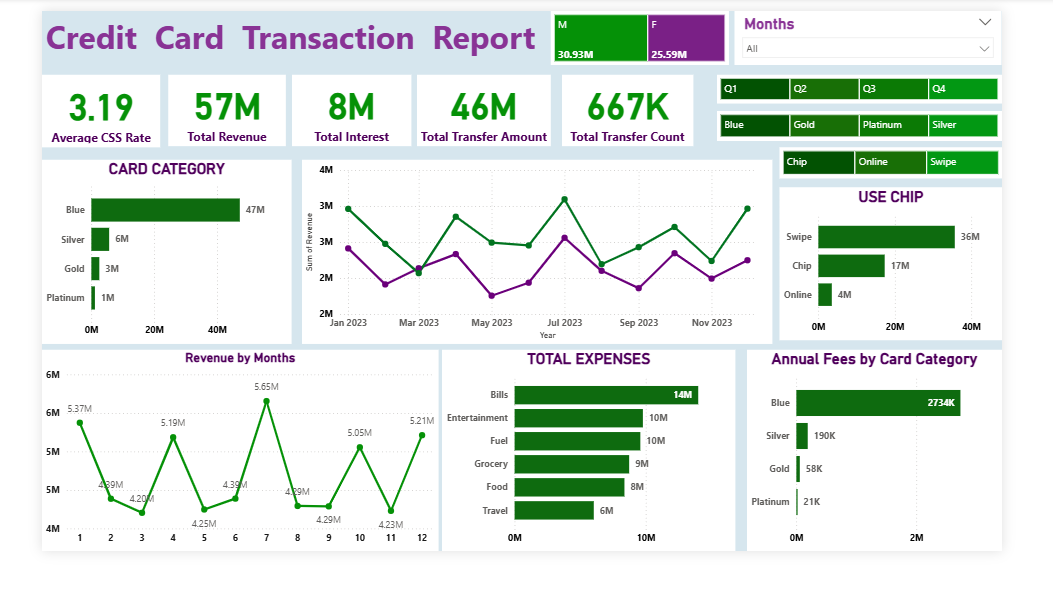

The dashboard page shown, as its layout file describes it:
{"tool":"powerbi","page":{"name":"Page 2","canvas":[1280,720],"ordinal":1},"visuals":[{"type":"textbox","box":[0,0,693.5,72.4],"z":0},{"type":"card","fields":{"Values":["Avg(customer.Cust_Satisfaction_Score)"]},"box":[0,84.4,158,96.5],"z":1000},{"type":"slicer","fields":{"Values":["credit_card.Month Name"]},"box":[924.1,0,355.7,72.1],"z":2000},{"type":"card","fields":{"Values":["Sum(credit_card.Revenue)"]},"box":[167.6,85.6,156.8,95.3],"z":3000},{"type":"card","fields":{"Values":["Sum(credit_card.Interest_Earned)"]},"box":[334.1,84.4,159.2,95.3],"z":4000},{"type":"card","fields":{"Values":["Sum(credit_card.Total_Trans_Amt)"]},"box":[499.3,84.4,178.5,95.3],"z":5000},{"type":"treemap","fields":{"Group":["customer.Gender"],"Values":["Sum(credit_card.Revenue)"]},"box":[677.8,0,237.6,72.4],"z":6000},{"type":"treemap","fields":{"Group":["credit_card.Card_Category"],"Values":["Count(credit_card.Card_Category)"]},"box":[899.7,133.9,379.9,39.8],"z":7000},{"type":"treemap","fields":{"Group":["credit_card.Use Chip"],"Values":["Count(credit_card.Use Chip)"]},"box":[982.9,181.4,297.1,41.4],"z":8000},{"type":"barChart","title":"USE CHIP","fields":{"Category":["credit_card.Use Chip"],"Y":["Sum(credit_card.Revenue)"]},"box":[982.9,235.7,297.1,204.3],"z":9000},{"type":"barChart","title":"TOTAL EXPENSES","fields":{"Y":["Sum(credit_card.Revenue)"],"Category":["credit_card.Exp Type"]},"box":[532.9,451.4,391.4,268.6],"z":10000},{"type":"treemap","fields":{"Values":["Count(credit_card.Card_Category)"],"Group":["credit_card.Qtr"]},"box":[899.7,85.6,379.9,38.6],"z":11000},{"type":"barChart","title":"CARD CATEGORY","fields":{"Category":["credit_card.Card_Category"],"Y":["Sum(credit_card.Revenue)"]},"box":[0,198.6,332.9,245.7],"z":12000},{"type":"barChart","title":"Annual Fees by Card Category","fields":{"Category":["credit_card.Card_Category"],"Y":["Sum(credit_card.Annual_Fees)"]},"box":[940,451.4,340,268.6],"z":13000},{"type":"lineChart","title":"Revenue by Months","fields":{"Category":["credit_card.Month_Number"],"Y":["Sum(credit_card.Revenue)"]},"box":[0,451.4,528.6,268.6],"z":14000},{"type":"card","fields":{"Values":["Sum(credit_card.Total_Trans_Vol)"]},"box":[693.5,84.4,174.9,95.3],"z":15000},{"type":"lineChart","title":"QTR Vs REVENUE","fields":{"Y":["Sum(credit_card.Revenue)"],"Series":["customer.Gender"],"Category":["credit_card.Date.Variation.Date Hierarchy.Year","credit_card.Date.Variation.Date Hierarchy.Quarter","credit_card.Date.Variation.Date Hierarchy.Month","credit_card.Date.Variation.Date Hierarchy.Day"]},"box":[347.1,198.6,627.1,245.7],"z":16000}]}

Visuals, with their boxes in screenshot pixels (x1, y1, x2, y2), scaled from the page's 1280x720 canvas onto the 1053x596 screenshot:
textbox: [0,0,571,60]
card - Avg(customer.Cust_Satisfaction_Score): [0,70,130,150]
slicer - credit_card.Month Name: [760,0,1052,60]
card - Sum(credit_card.Revenue): [138,71,267,150]
card - Sum(credit_card.Interest_Earned): [275,70,406,149]
card - Sum(credit_card.Total_Trans_Amt): [411,70,558,149]
treemap - customer.Gender x Sum(credit_card.Revenue): [558,0,753,60]
treemap - credit_card.Card_Category x Count(credit_card.Card_Category): [740,111,1052,144]
treemap - credit_card.Use Chip x Count(credit_card.Use Chip): [809,150,1052,184]
"USE CHIP" barChart: [809,195,1052,364]
"TOTAL EXPENSES" barChart: [438,374,760,595]
treemap - Count(credit_card.Card_Category) x credit_card.Qtr: [740,71,1052,103]
"CARD CATEGORY" barChart: [0,164,274,368]
"Annual Fees by Card Category" barChart: [773,374,1052,595]
"Revenue by Months" lineChart: [0,374,435,595]
card - Sum(credit_card.Total_Trans_Vol): [571,70,714,149]
"QTR Vs REVENUE" lineChart: [286,164,801,368]
